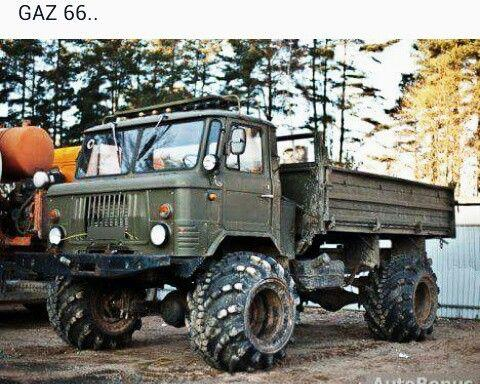ambulance: (48, 116, 451, 368)
